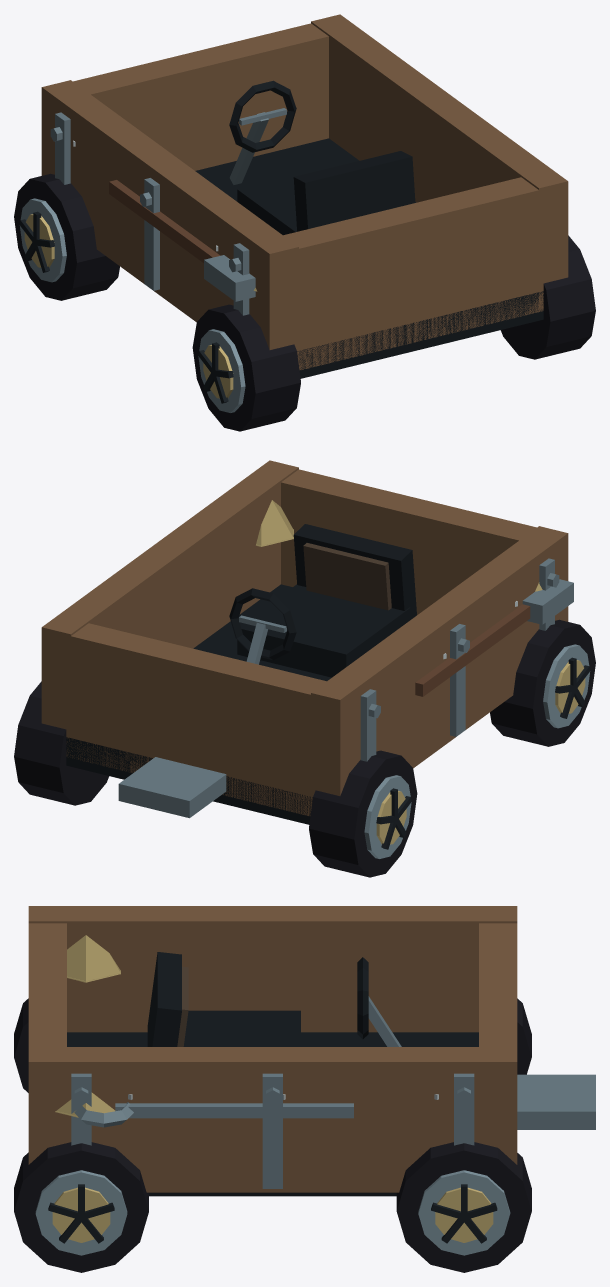
Rendered from kart.glb.
3 views of the same model, one above another, from view 1: azimuth 30°, elevation 25°; view 2: azimuth 150°, elevation 25°; view 3: azimuth 270°, elevation 25° (orthographic). The views are drawn at different scales.
Visible parts, largest first — view 1: identity-minecart-minecart-riveted-open-bin, identity-minecart-driver-cockpit, wheel-rear-left, wheel-front-left, wheel-rear-right, identity-minecart-motif-tools; view 2: identity-minecart-minecart-riveted-open-bin, identity-minecart-driver-cockpit, wheel-front-left, wheel-rear-left, wheel-front-right, identity-minecart-motif-tools, identity-minecart-motif-gems; view 3: identity-minecart-minecart-riveted-open-bin, wheel-front-right, wheel-rear-right, identity-minecart-driver-cockpit, identity-minecart-motif-tools, identity-minecart-motif-gems, wheel-rear-left, wheel-front-left.
Part boxes in pixels (x1,y1,x2,y2): identity-minecart-minecart-riveted-open-bin: (41, 14, 568, 378); identity-minecart-driver-cockpit: (229, 80, 415, 235); wheel-rear-left: (192, 304, 300, 431); wheel-front-left: (14, 173, 119, 300); wheel-rear-right: (500, 235, 595, 359); identity-minecart-motif-tools: (109, 180, 255, 301); identity-minecart-minecart-riveted-open-bin: (41, 460, 568, 824); identity-minecart-driver-cockpit: (229, 524, 416, 677); wheel-front-left: (309, 750, 417, 877); wheel-rear-left: (490, 619, 595, 746); wheel-front-right: (14, 681, 109, 805); identity-minecart-motif-tools: (415, 579, 573, 696); identity-minecart-motif-gems: (256, 500, 542, 591); identity-minecart-minecart-riveted-open-bin: (28, 906, 595, 1196); wheel-front-right: (396, 1142, 531, 1272); wheel-rear-right: (14, 1142, 148, 1272); identity-minecart-driver-cockpit: (147, 952, 401, 1046); identity-minecart-motif-tools: (74, 1102, 353, 1127); identity-minecart-motif-gems: (55, 935, 120, 1117); wheel-rear-left: (14, 998, 28, 1092); wheel-front-left: (517, 998, 531, 1074).
Bounding box in the file's own units: 1.99 × 1.09 × 2.58.
